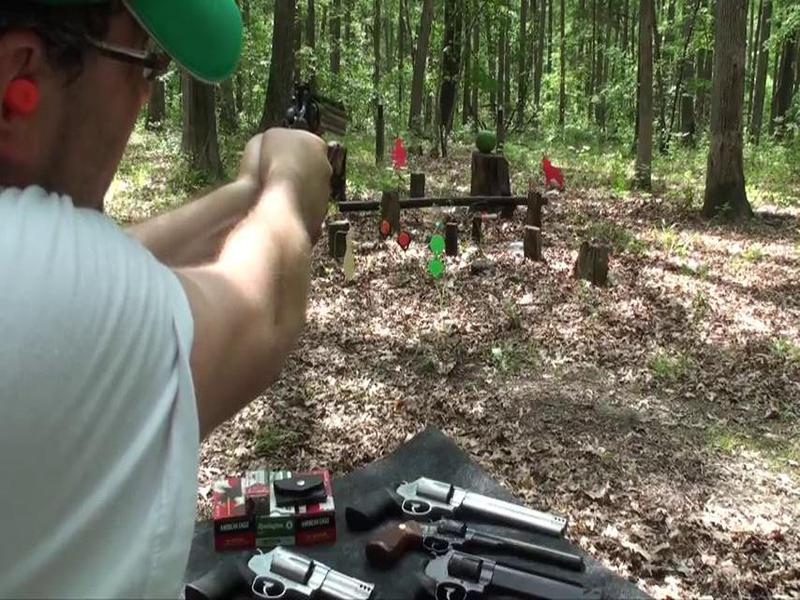Revolver: (282, 80, 362, 172)
